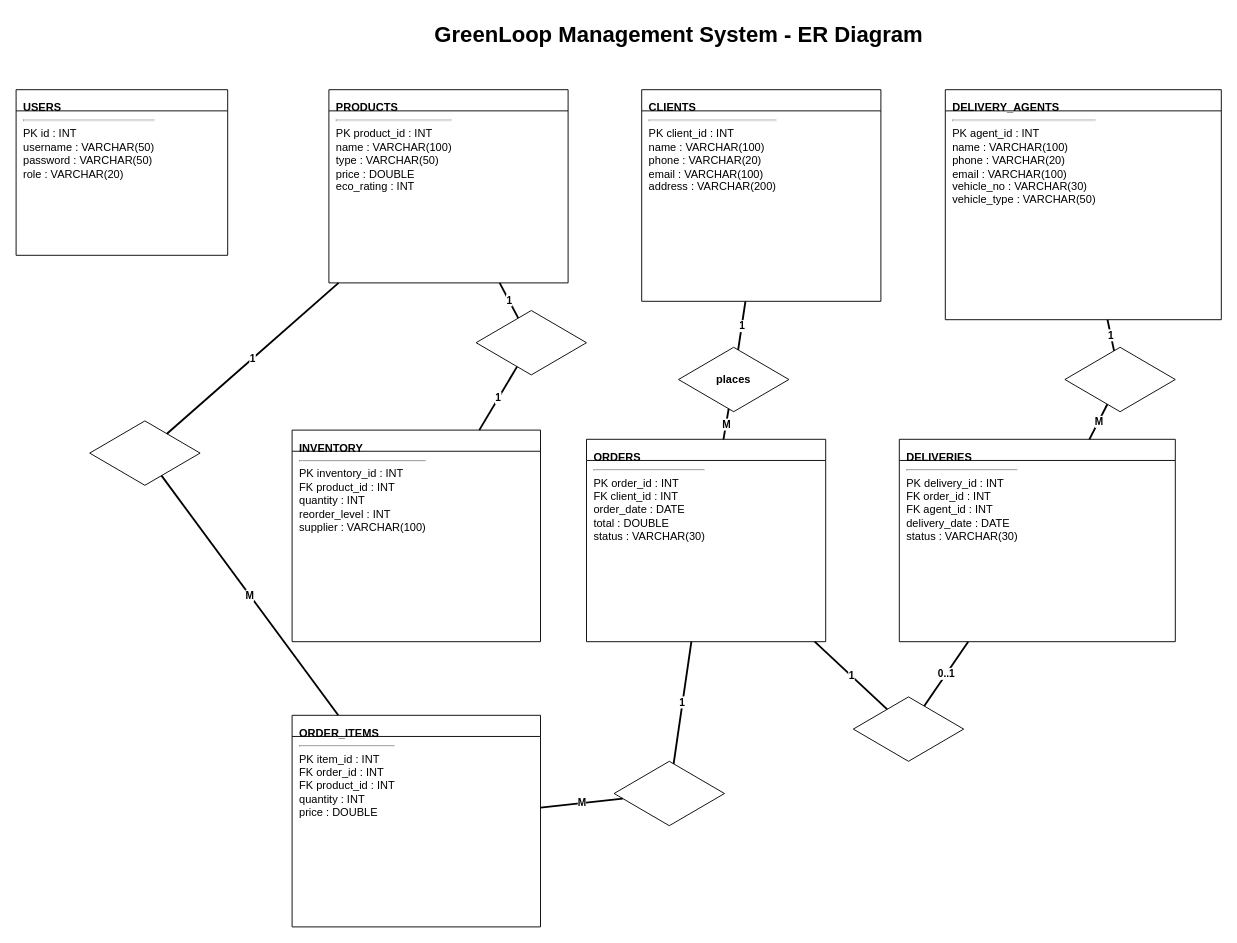
Some shapes in this 1237 by 943 pixel diagram are drawn without their labels. The centre of each missing label's shape, as x and y in pixels:
"assigned to" belongs at (x=1119, y=379).
"contains" belongs at (x=668, y=793).
"has stock" belongs at (x=530, y=342).
"included in" belongs at (x=144, y=452).
"scheduled for" belongs at (x=908, y=728).
